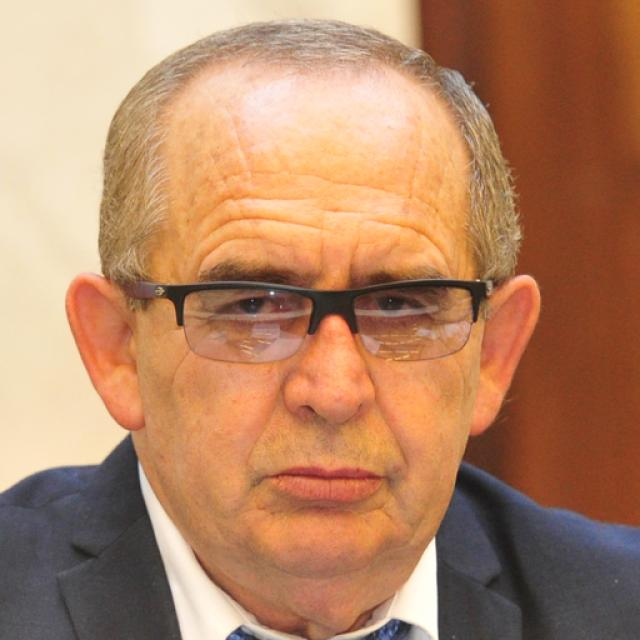Wrinkle: (208, 165, 408, 201), (200, 210, 331, 248), (374, 213, 453, 276), (243, 384, 278, 476), (208, 190, 318, 217), (378, 391, 412, 474), (318, 205, 365, 218)
